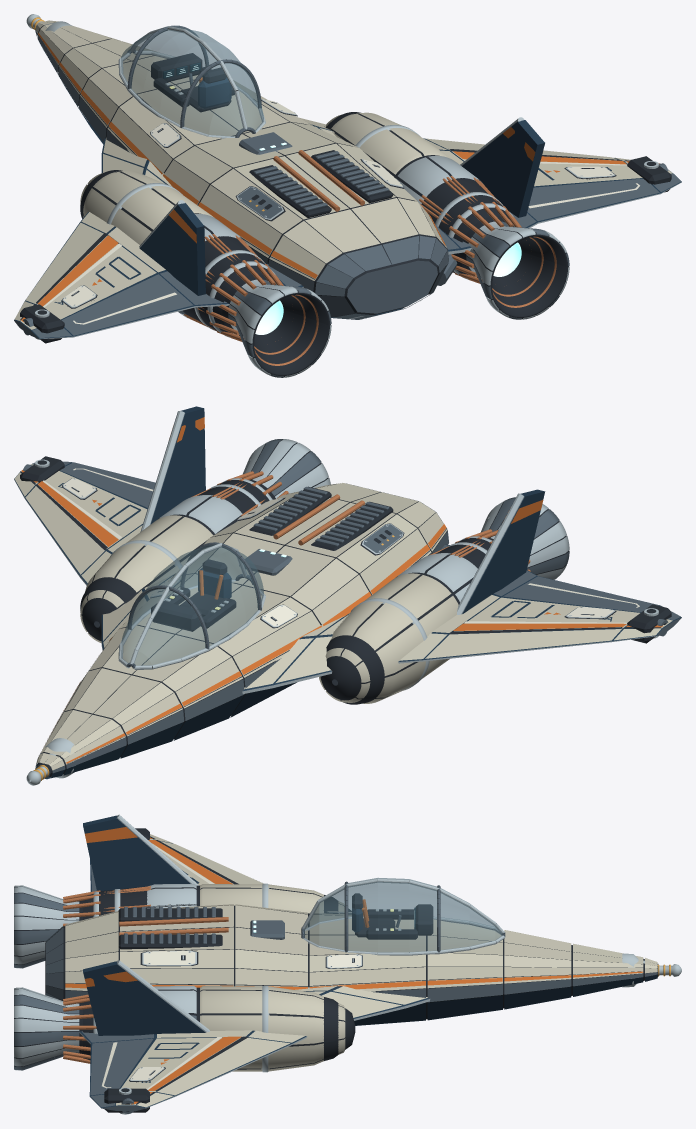
Rendered from explorer-ex07.glb.
3 renders of one model, top to bottom at view 1: azimuth 30°, elevation 25°; view 2: azimuth 150°, elevation 25°; view 3: azimuth 270°, elevation 25°, orthographic. The views are drawn at different scales.
Parts seen in each view (by area): view 1: Airframe geometry, Flight systems geometry; view 2: Airframe geometry, Flight systems geometry; view 3: Airframe geometry, Flight systems geometry.
Boxes of the visible parts, box(x1,y1,x2,y2) form: Airframe geometry: box(14, 20, 681, 339); Flight systems geometry: box(20, 14, 671, 377); Airframe geometry: box(14, 406, 681, 779); Flight systems geometry: box(20, 439, 671, 785); Airframe geometry: box(45, 814, 658, 1111); Flight systems geometry: box(14, 828, 681, 1114).
Size of the model in its own units: 11.88 by 2.78 by 12.17.
